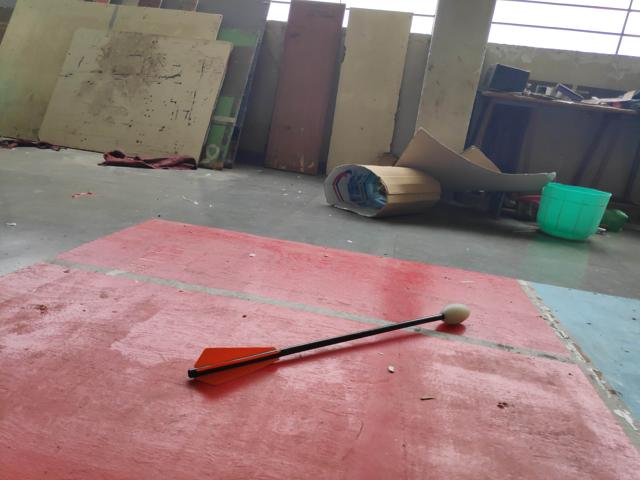Head: (439, 302, 473, 328)
